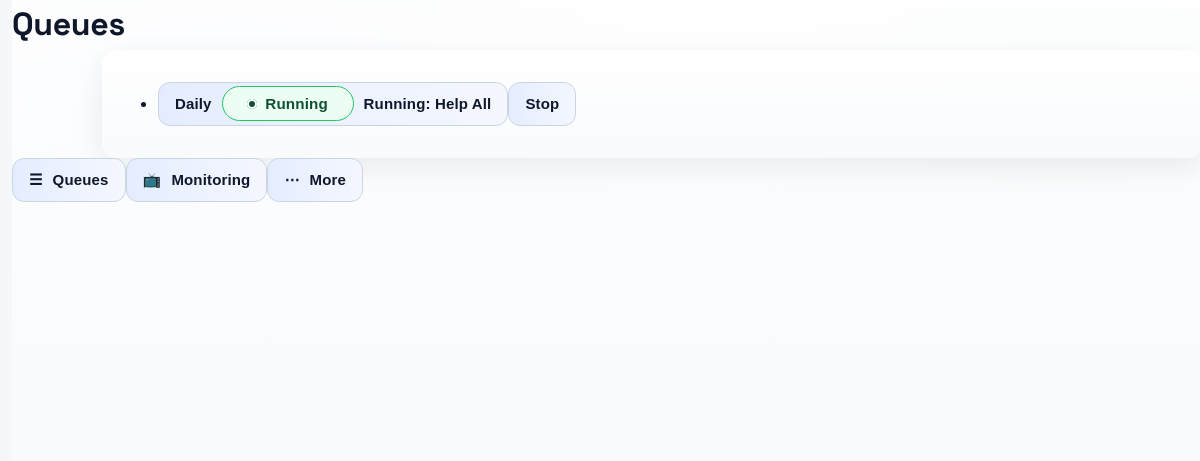
Test: SC-001: queue activity within 2 taps from the first screen › shows the Now text after at most 2 taps
Expected: the text "Running: Help All" is shown, left=364, top=95, right=491, bottom=112
Expected: the list item with test id "queue-card-q1" is shown, left=158, top=82, right=576, bottom=126
Click the button with aria-label "Open Daily" at coordinates (333, 104), box left=158, top=82, right=508, bottom=126
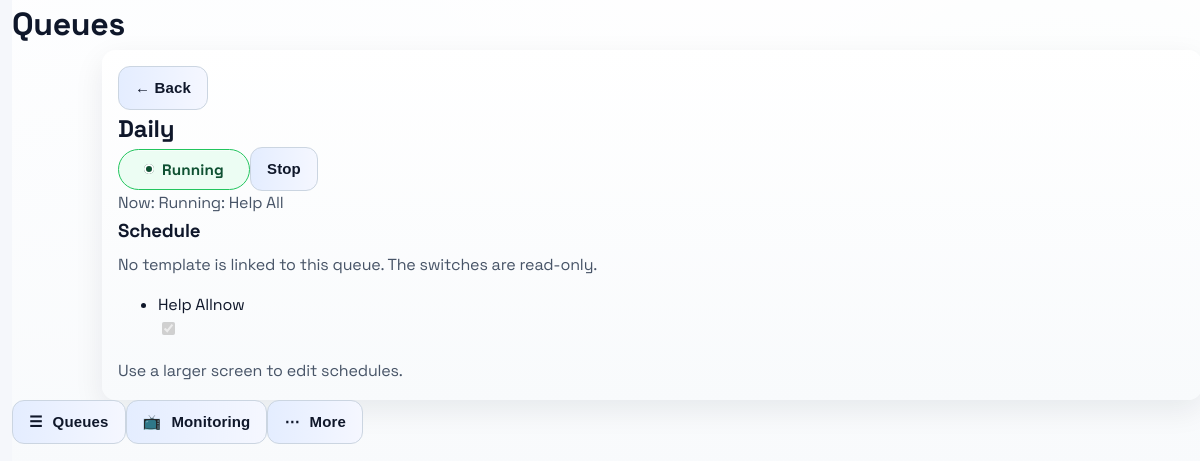
Result: the element with test id "queue-now" shows "Running: Help All" at left=158, top=192, right=284, bottom=213
